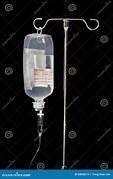Iv_Bottle: (23, 33, 53, 110)
